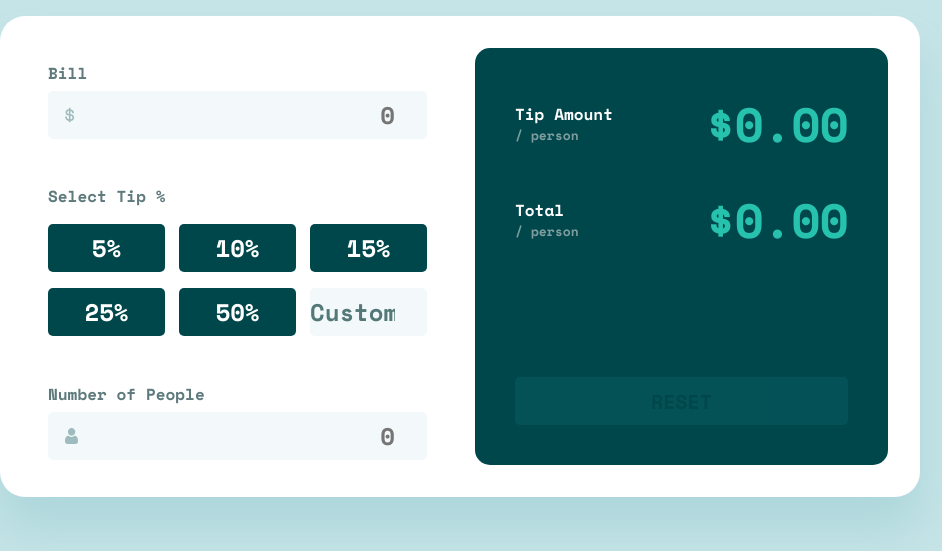
Test case: Test user interface interactions › should enable reset button when Number of People input default value is changed
The width and height of the screenshot is (942, 551).
Type "2" into the number field labelled "Number of People" at (238,436), box 48,412 -> 427,460
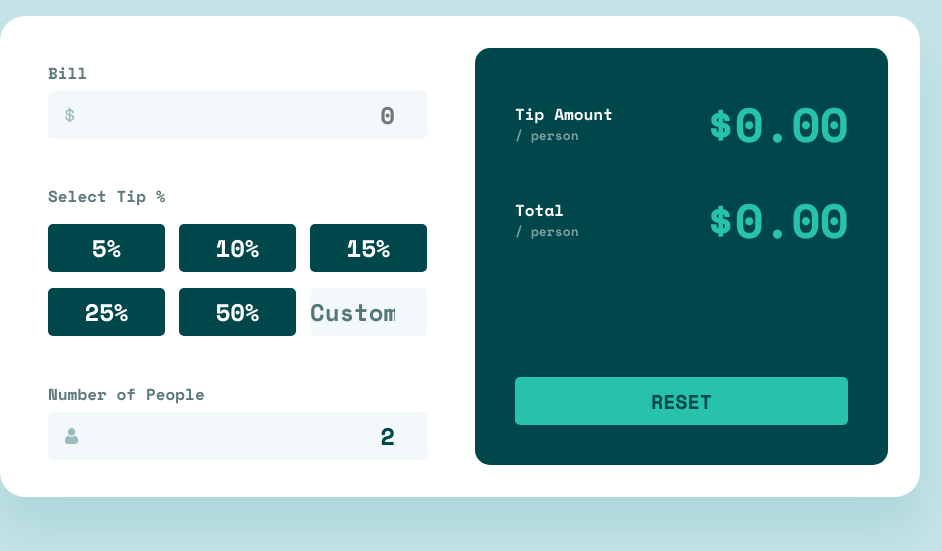
Expected: the button "RESET" is enabled, 515,377 -> 848,425
